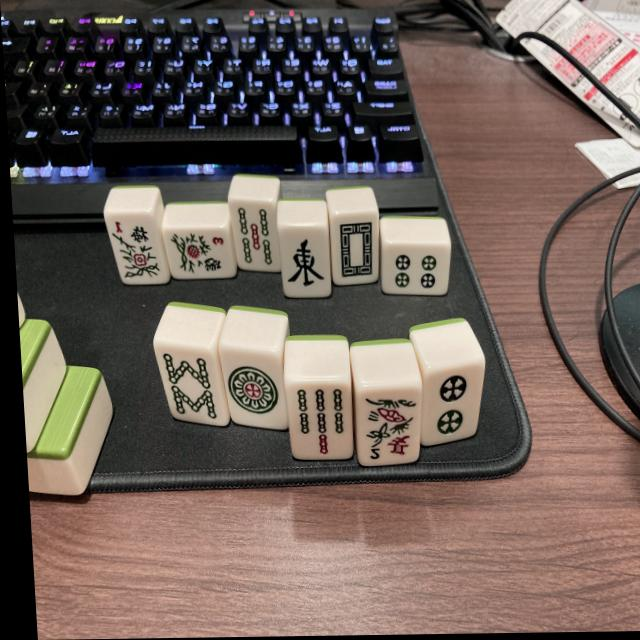bai: (331, 215, 383, 286)
east: (278, 229, 332, 301)
f1: (105, 215, 169, 285)
f3: (162, 230, 234, 281)
ff2: (353, 389, 423, 466)
s5: (231, 204, 281, 274)
s7: (286, 383, 354, 460)
s8: (158, 350, 227, 425)
t1: (217, 350, 286, 431)
t2: (416, 365, 488, 449)
t4: (379, 245, 453, 297)
